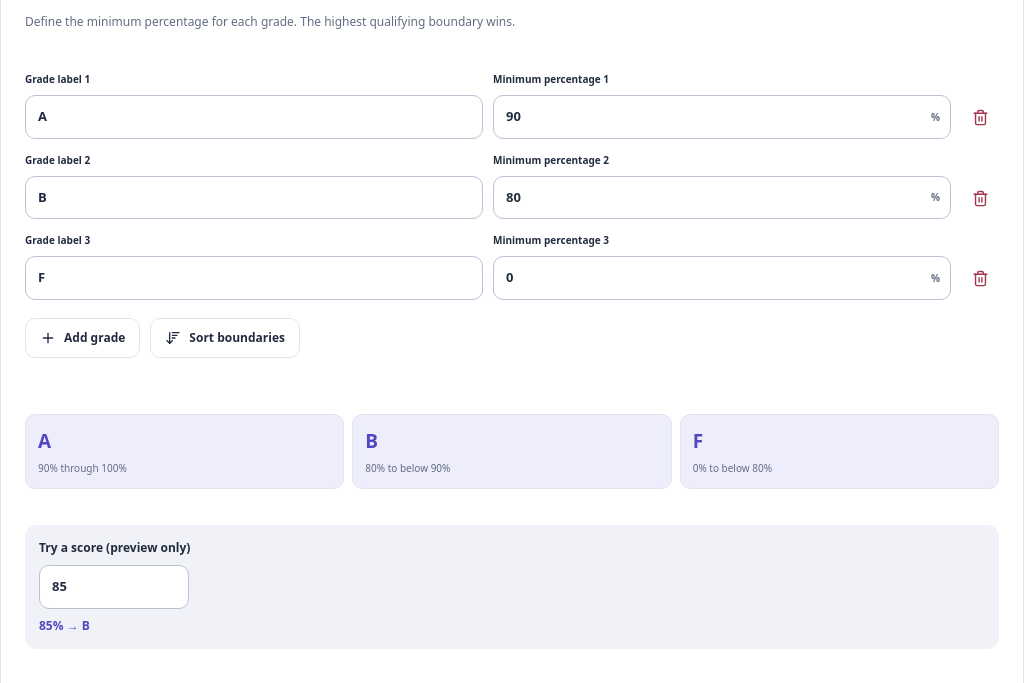
Scenario: preserves grading input after a failed save and allows retry
Replace the text in the number field labelled "Minimum percentage 1" with "95" at point(708, 117), box [494,96,921,138]
(page scrolled)
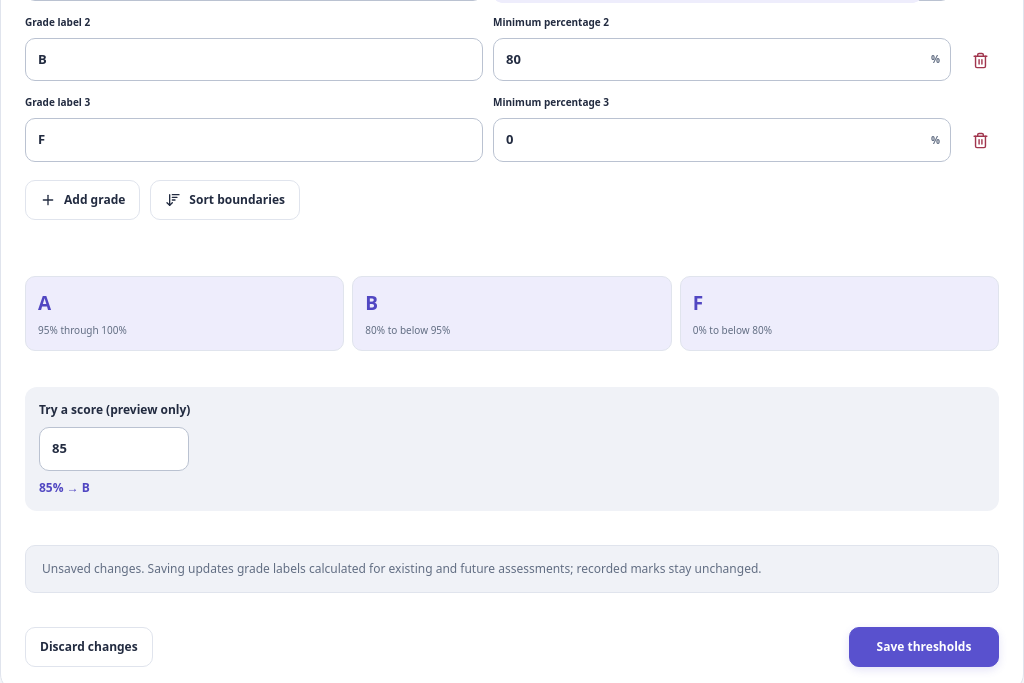
Click the button "Save thresholds" at point(924, 647), box [849,627,999,667]
(page scrolled)
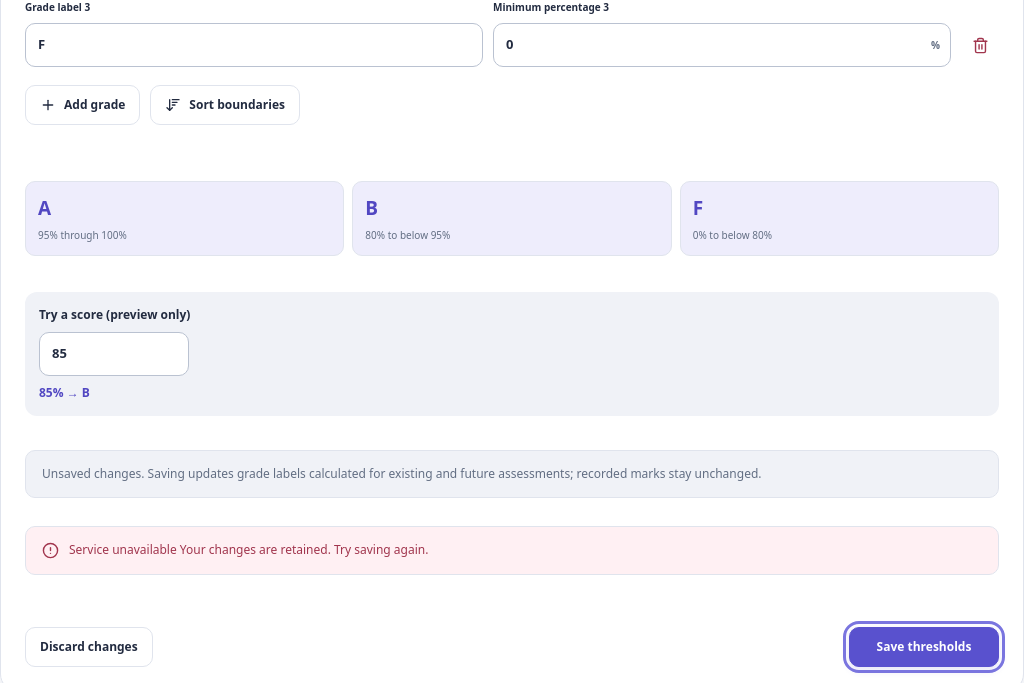
Expected: the message shows "Your changes are retained", [177,541,428,558]
Click the button "Save thresholds" at point(924, 647), box [849,627,999,667]
(page scrolled)
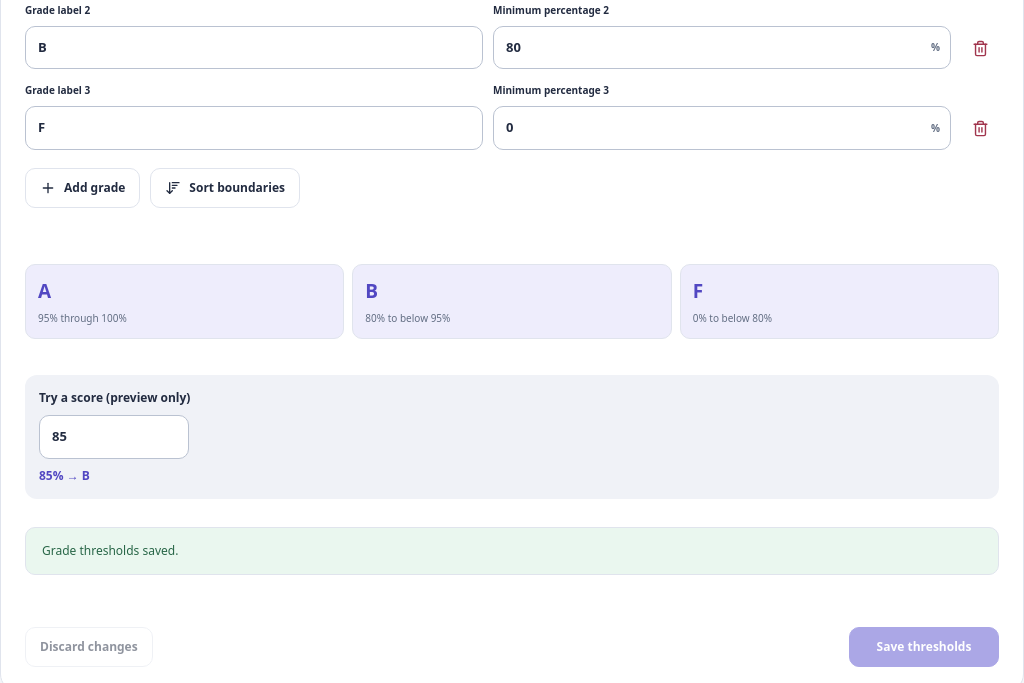
Expected: the text "Grade thresholds saved." is shown, [25,527,999,575]
